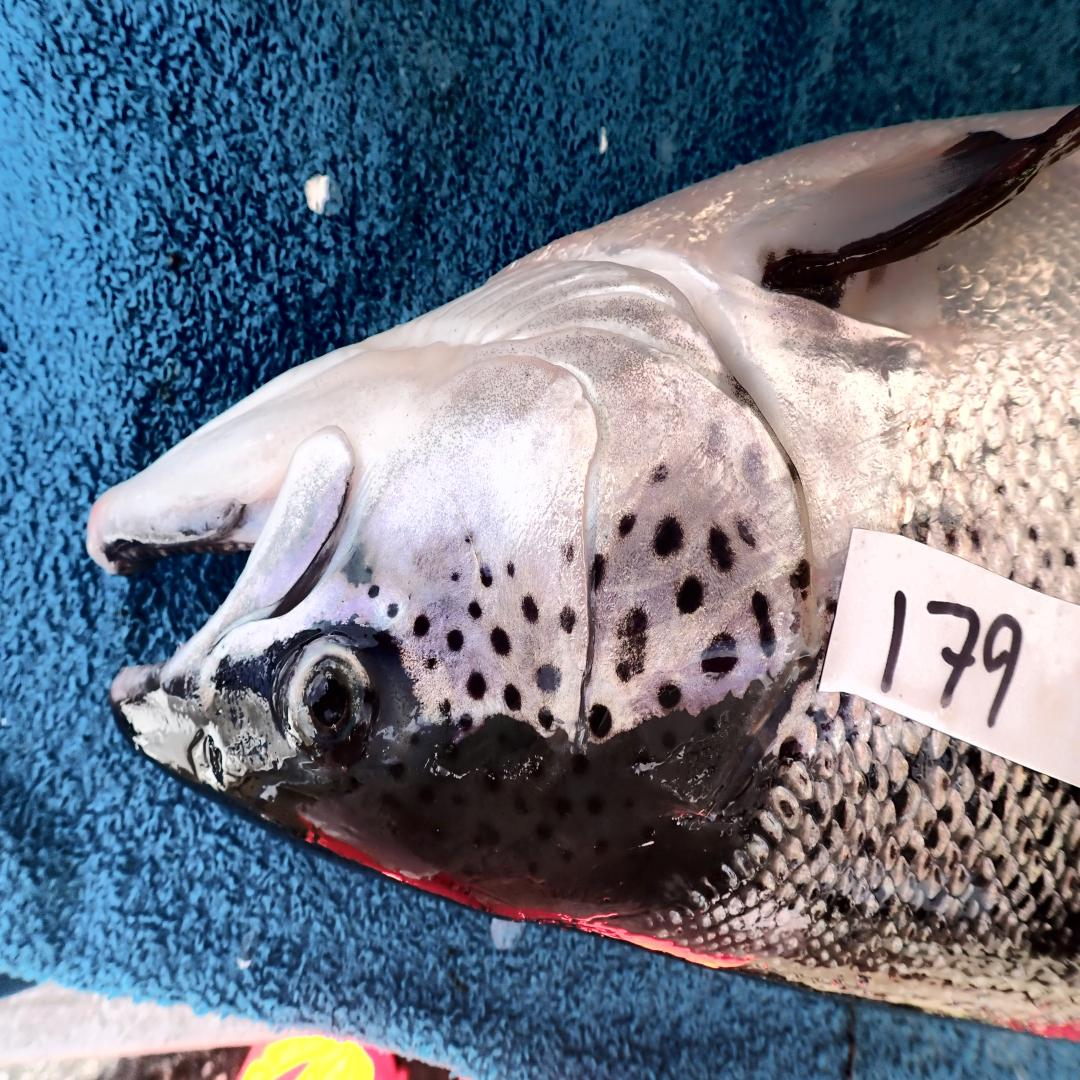spot: (616, 608, 648, 681), (698, 411, 734, 461), (702, 633, 738, 678), (751, 591, 776, 655), (740, 439, 772, 487), (709, 526, 734, 574), (654, 518, 683, 557), (677, 577, 702, 613), (589, 703, 612, 740), (789, 560, 810, 599), (734, 515, 757, 548), (536, 664, 561, 692), (658, 683, 681, 709), (491, 627, 510, 655), (466, 672, 485, 700), (785, 608, 804, 636), (591, 554, 605, 591), (504, 683, 521, 712), (521, 593, 538, 622), (456, 712, 481, 731), (559, 608, 576, 633), (618, 515, 635, 537), (447, 630, 464, 652), (563, 543, 580, 565), (652, 464, 669, 484), (413, 616, 430, 636), (538, 709, 553, 731), (462, 532, 479, 551), (481, 565, 491, 588), (468, 602, 481, 619), (424, 655, 439, 669), (439, 698, 451, 714), (367, 585, 380, 599), (388, 605, 399, 619), (506, 562, 515, 577), (451, 571, 460, 582)
